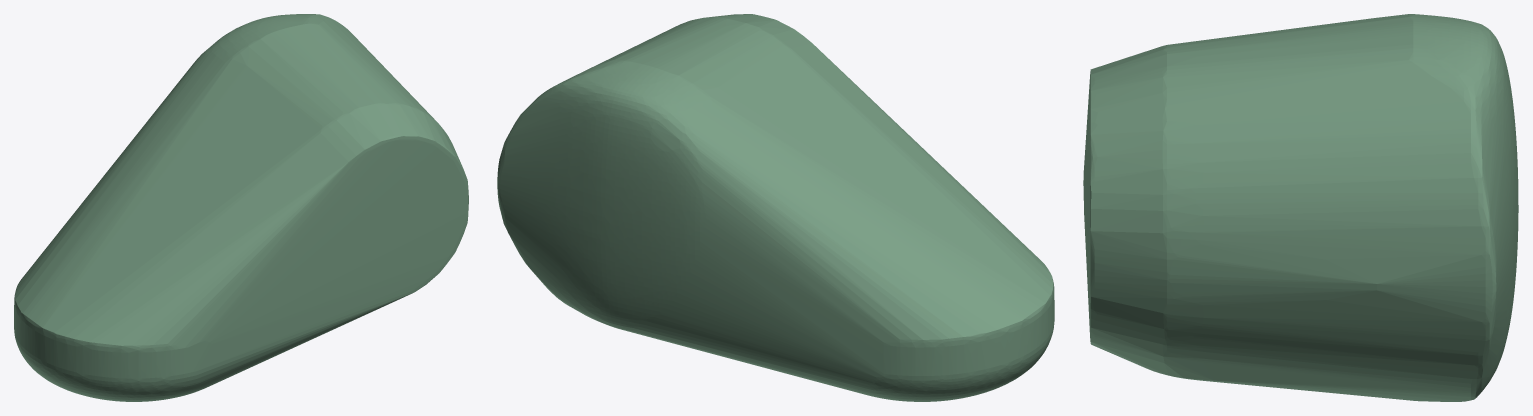
The model's file is R_arm_l6.obj.
3 renders of one model, left to right at view 1: azimuth 30°, elevation 25°; view 2: azimuth 150°, elevation 25°; view 3: azimuth 270°, elevation 25°, orthographic. The views are drawn at different scales.
Visible parts, largest first — view 1: geometry_0; view 2: geometry_0; view 3: geometry_0.
Part boxes in pixels (left/top/right/bottom): geometry_0: left=14, top=14, right=468, bottom=401; geometry_0: left=497, top=14, right=1054, bottom=401; geometry_0: left=1083, top=14, right=1518, bottom=401.
Bounding box in the file's own units: 0.1346 × 0.0821 × 0.08.
